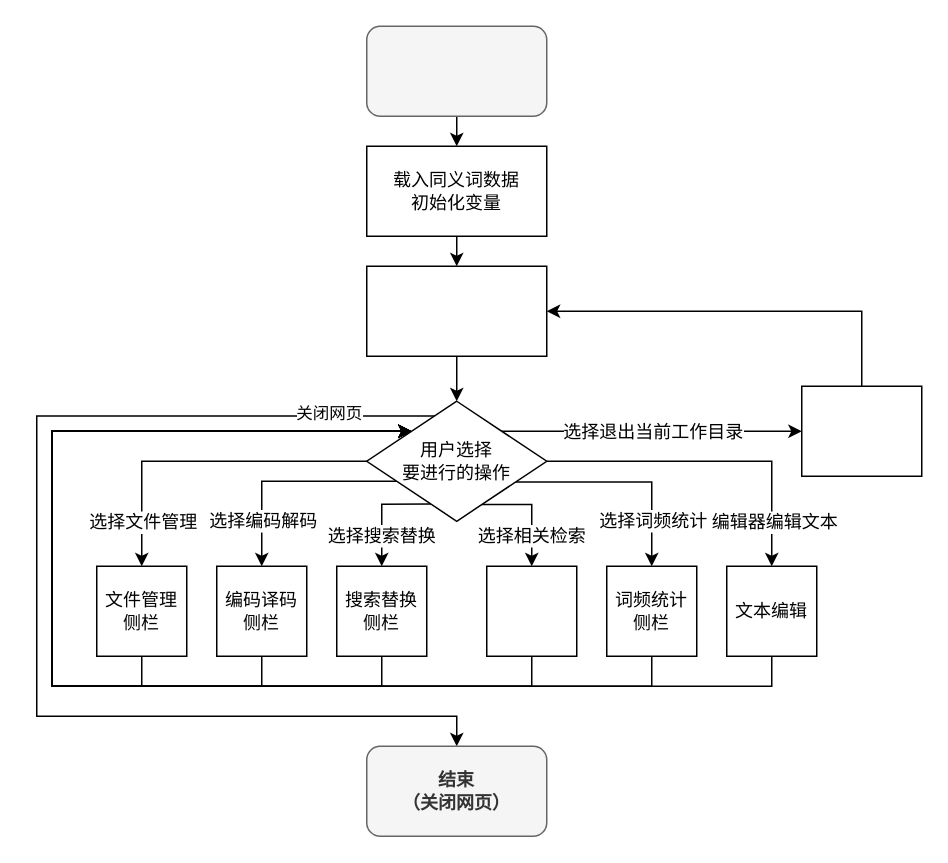
The diagram is 948 pixels wide and 863 high, and some of its shapes have lost their labels. The shapes that lost their labels are listed below. From the top down, each one's centre as x and y in pixels, then its label:
At [456,70]: "开始 （打开网页）".
At [456,310]: "开始阶段 （选择并载入工作目录）".
At [861,430]: "检查保存情况 提示未保存".
At [531,610]: "相关搜索 侧栏".
